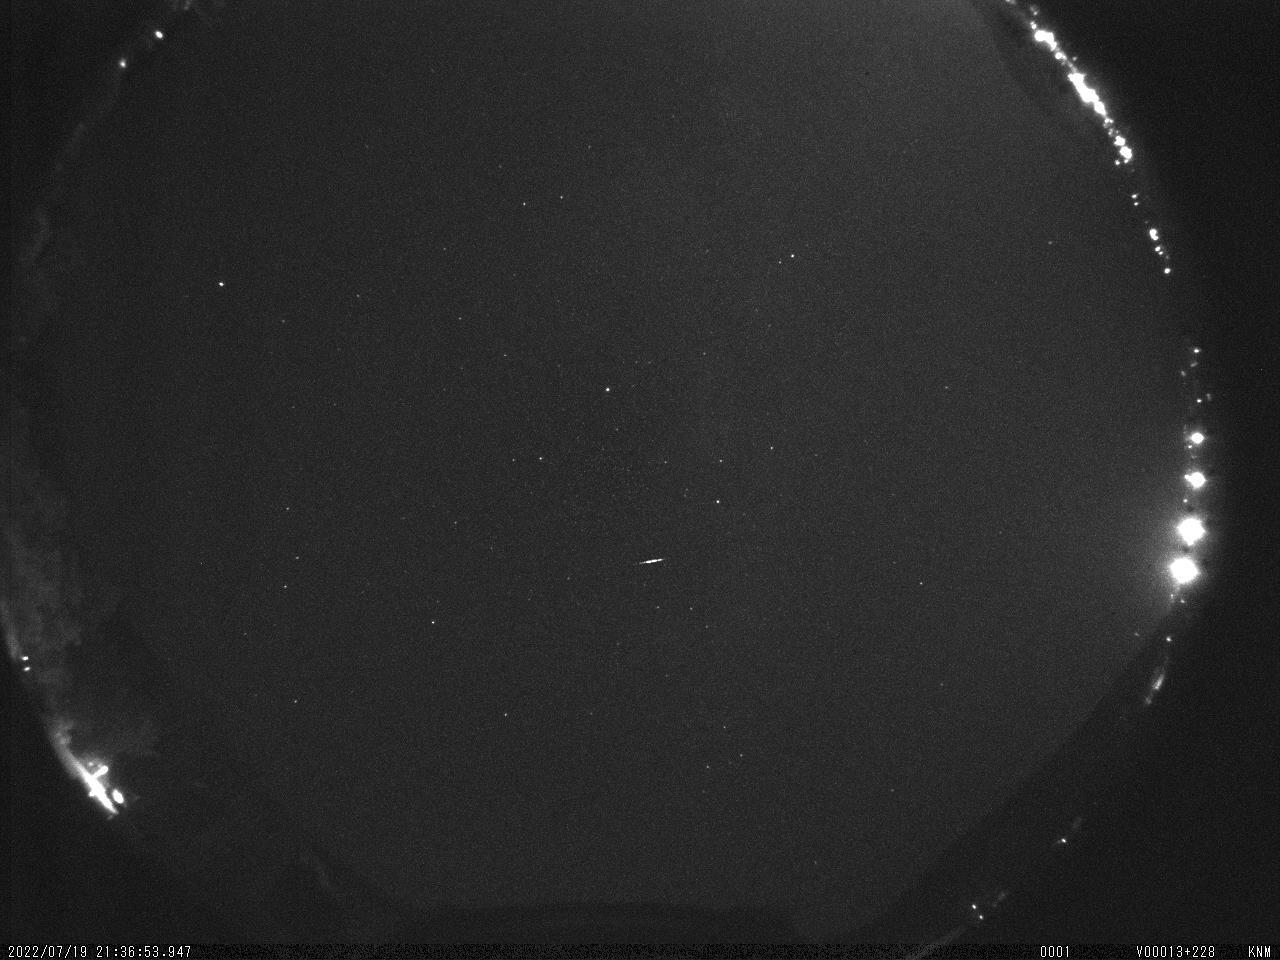Meteor: (633, 555, 667, 568)
